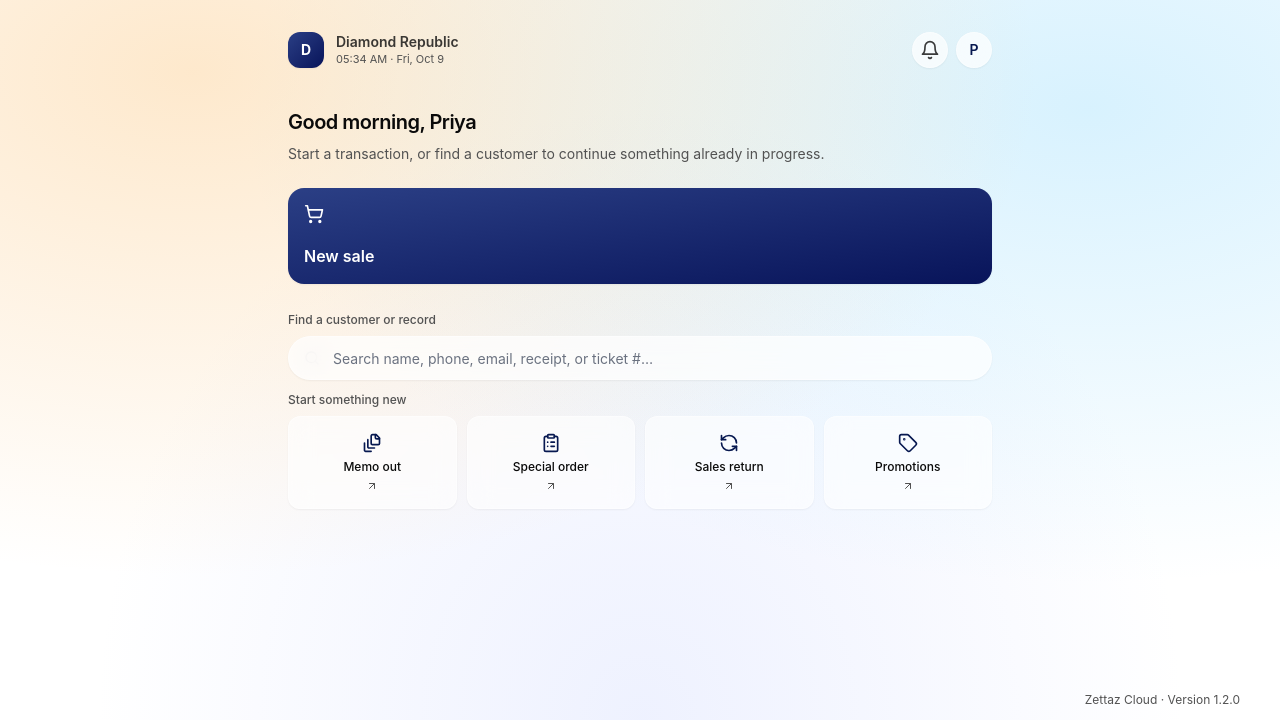
Test case: SalesHubPage › shows a no-matches message when the search returns nothing
Type "zzz" into the field with placeholder "Search name, phone, email, receipt, or ticket #…".
click(640, 358); type("zzz")  # box [288,336,992,380]
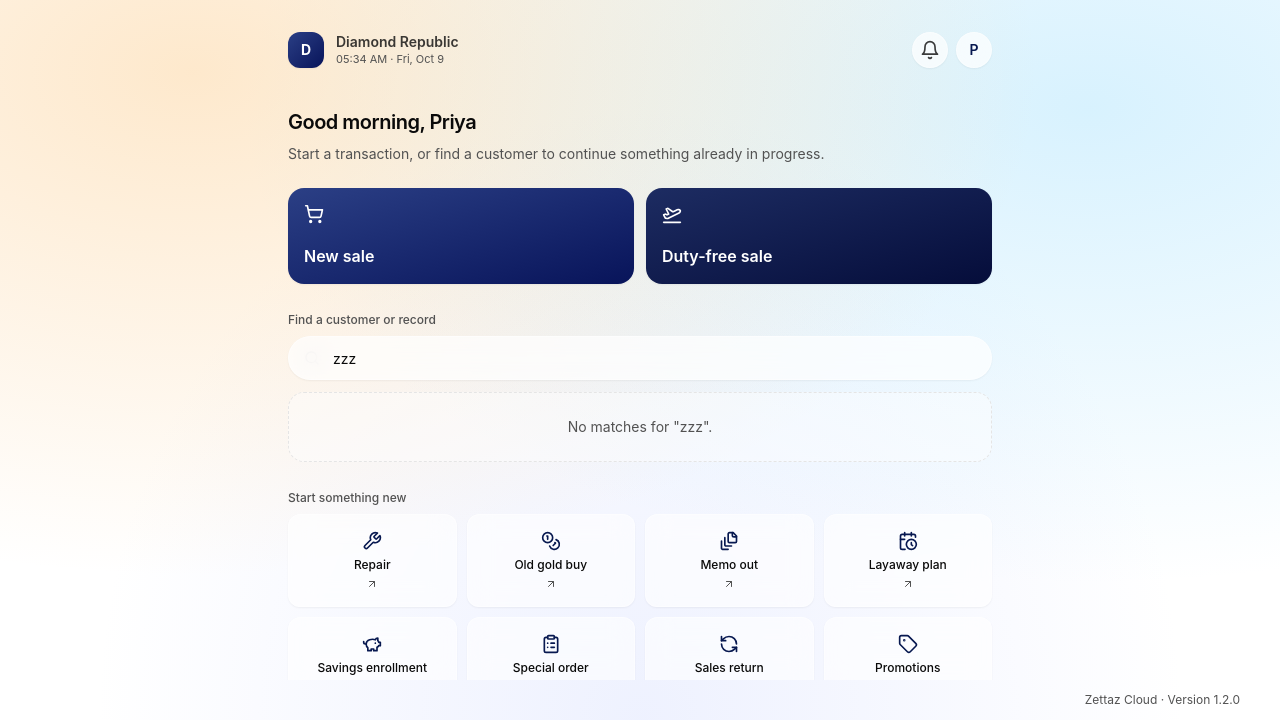
Now the text "No matches for \"zzz\"." is shown, box [568,418,712,435]
